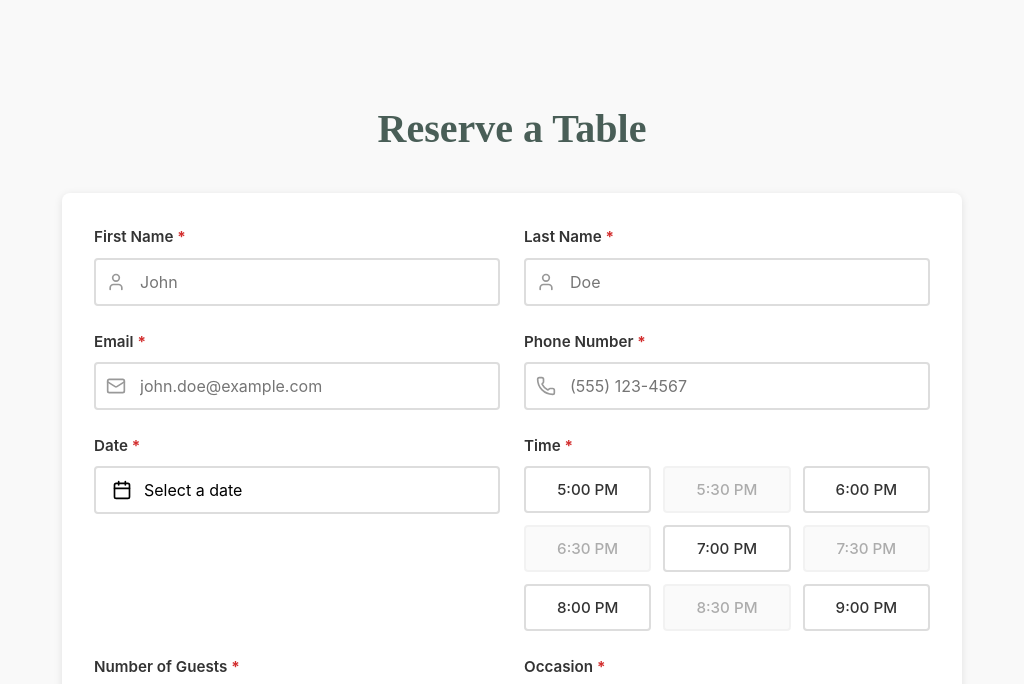
Scenario: BookingForm Component › shows validation error for empty first name
Click the field labelled "First Name *" at x=297, y=282, box [94,258,500,306]
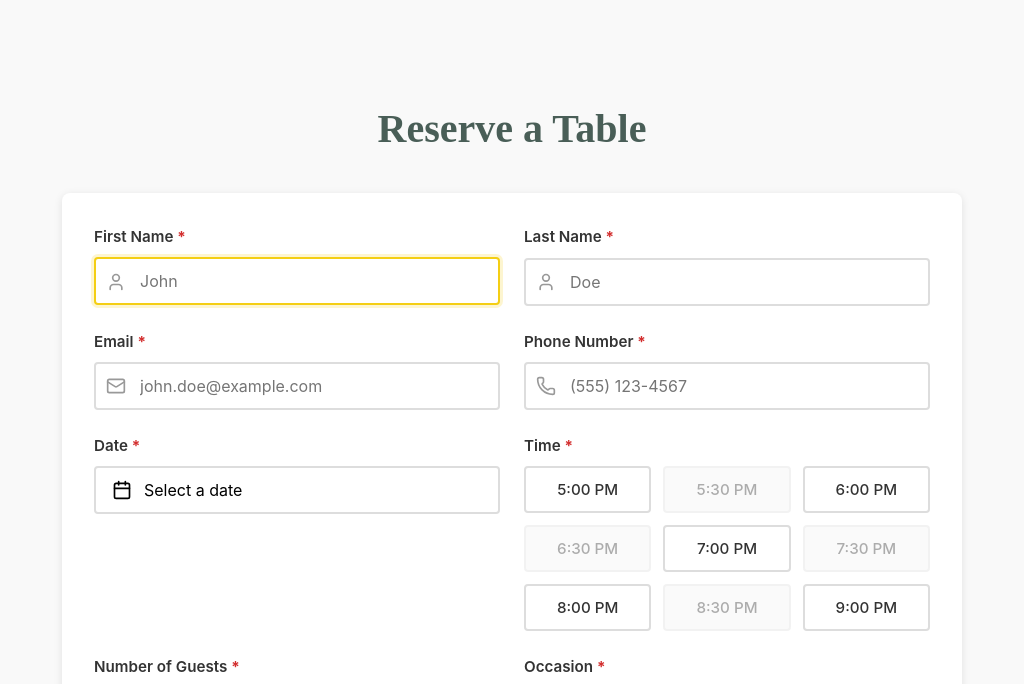
Press Tab
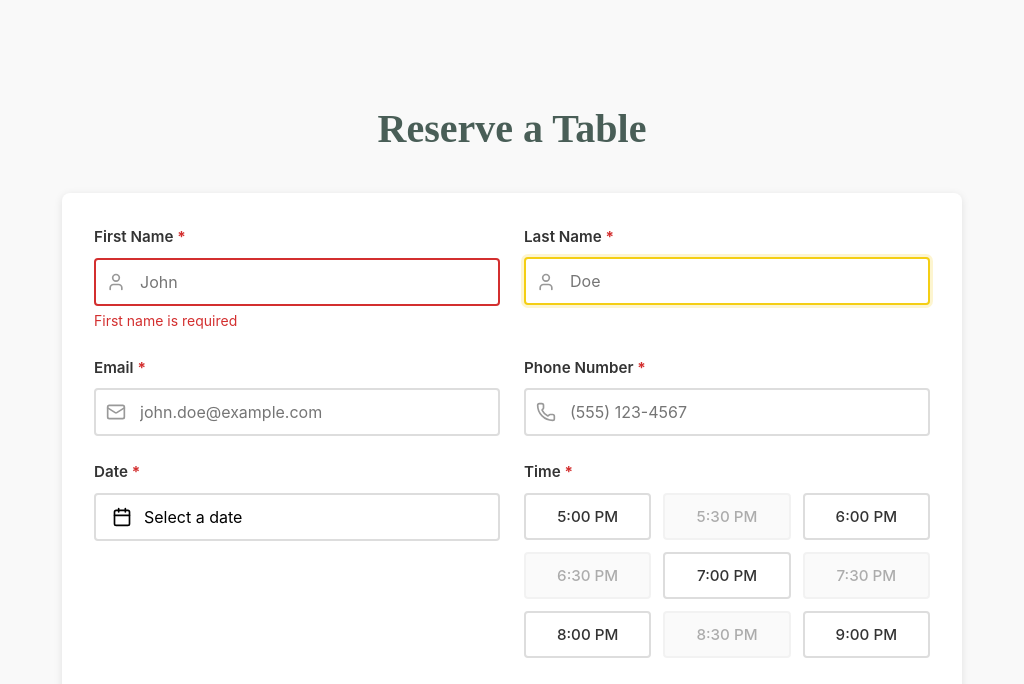
Now the text "First name is required" is shown, box [94,312,237,328]
